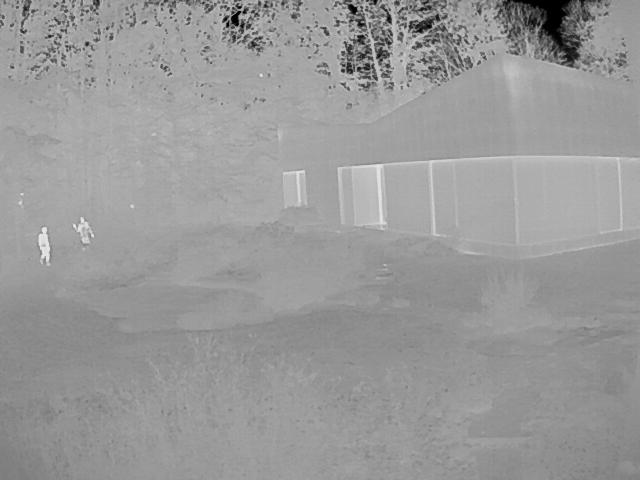person: (71, 215, 96, 250), (39, 223, 53, 266)
